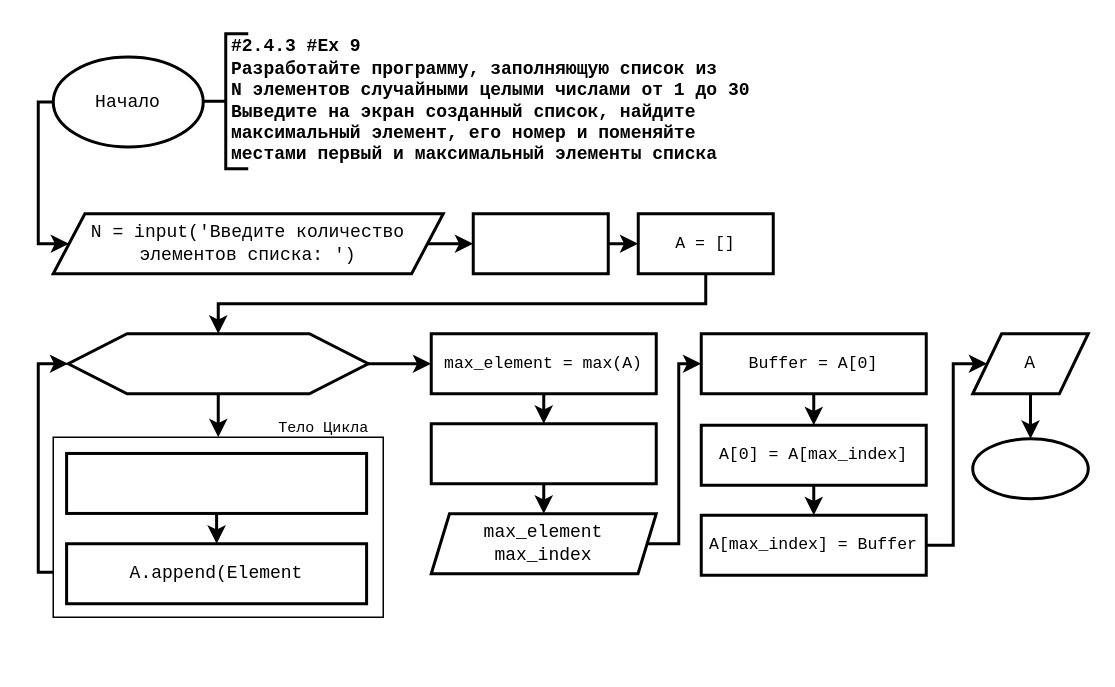
Image size: 1115x687. Some labels were removed from this diagram. The centre of each missing label's shape, as x and y in pixels:
Element = random.randint(1,30): the point at 215,482
i in range(N): the point at 217,363
max_index = A.index(max_element): the point at 543,453
N = int(N): the point at 540,243
Конец: the point at 1029,468
